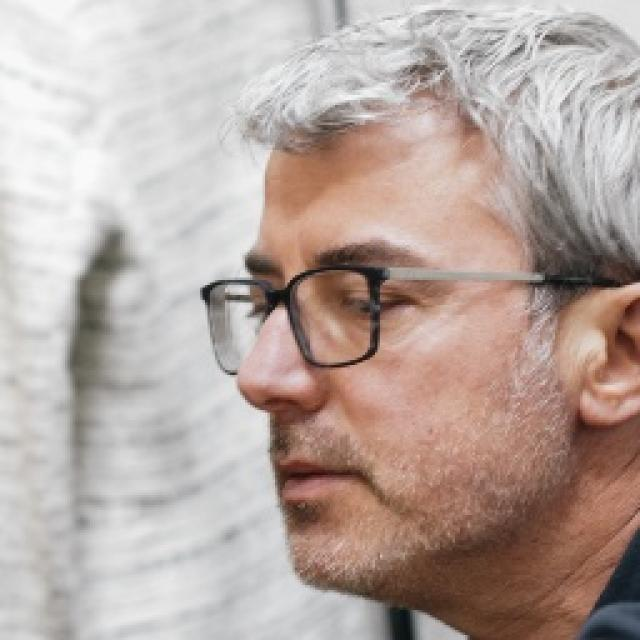earlobe: (576, 380, 620, 430)
eye: (334, 287, 404, 320)
nose: (267, 404, 318, 442)
wholeear: (575, 283, 640, 429)
